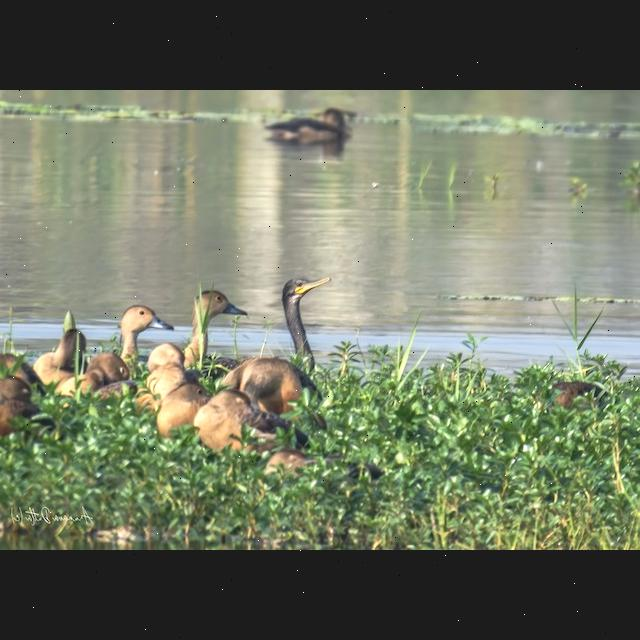cormorant: (277, 274, 335, 362)
